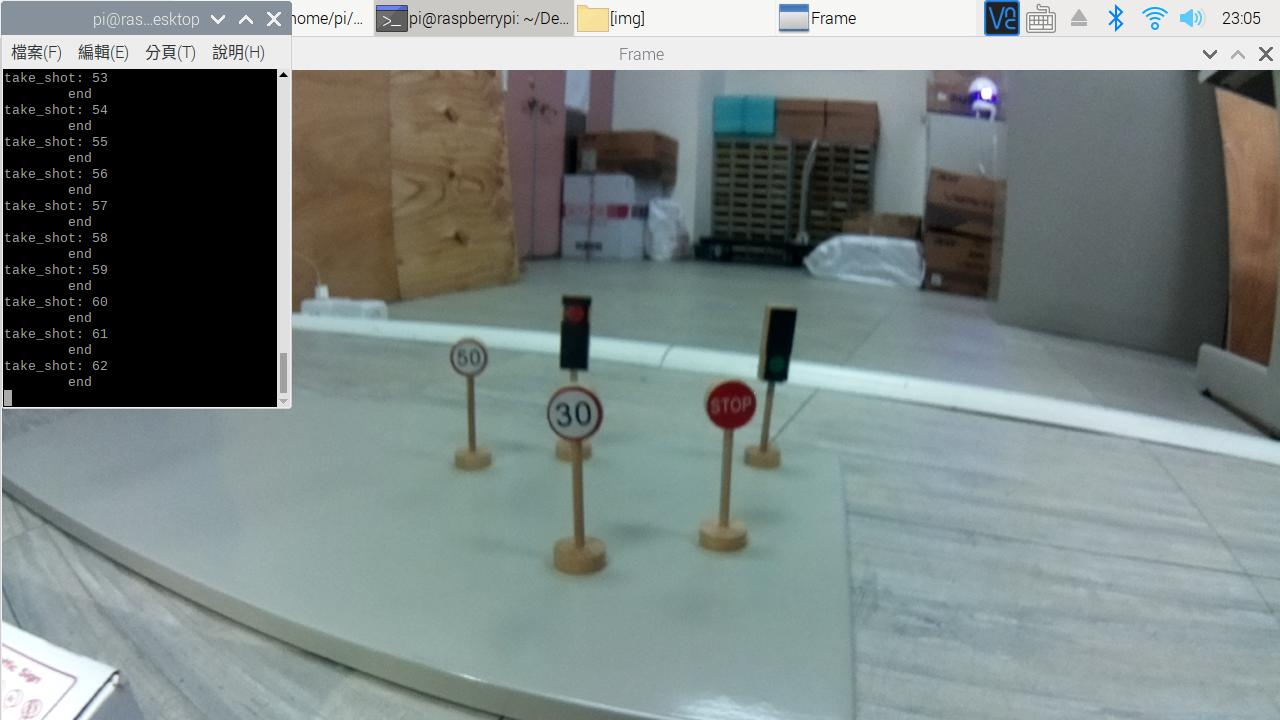Green: (751, 299, 801, 383)
Red: (547, 287, 597, 373)
Speed30: (539, 387, 607, 443)
Speed50: (442, 331, 492, 381)
Stop: (695, 372, 759, 435)
